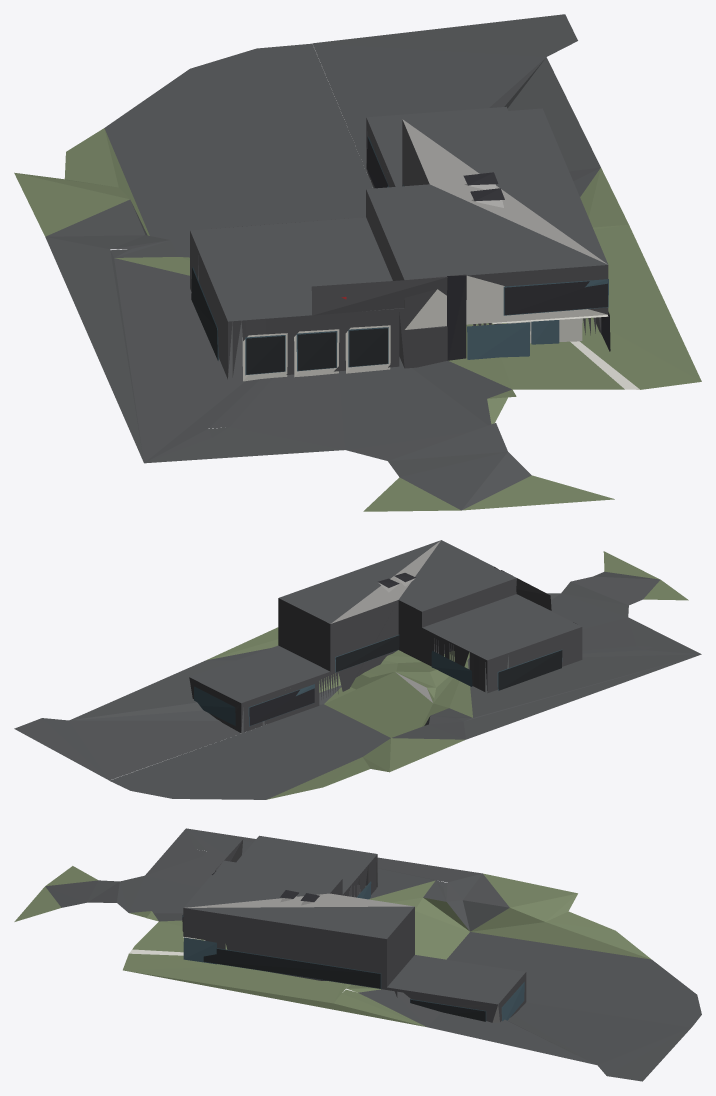
The model's file is fire-station-anton.lod2.glb.
3 views of the same model, one above another, from view 1: azimuth 30°, elevation 25°; view 2: azimuth 150°, elevation 25°; view 3: azimuth 270°, elevation 25° (orthographic). The views are drawn at different scales.
Visible parts, largest first — view 1: lod2; view 2: lod2; view 3: lod2.
Part boxes in pixels (x1,y1,x2,y2): lod2: (14,14,701,511); lod2: (14,540,701,799); lod2: (14,828,701,1081).
Bounding box in the file's own units: 86.63 × 14.88 × 110.
